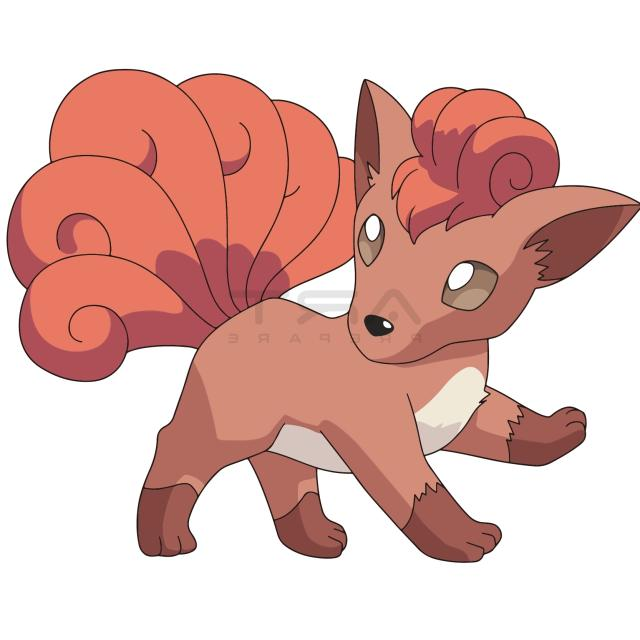Vulpix: (0, 42, 631, 574)
